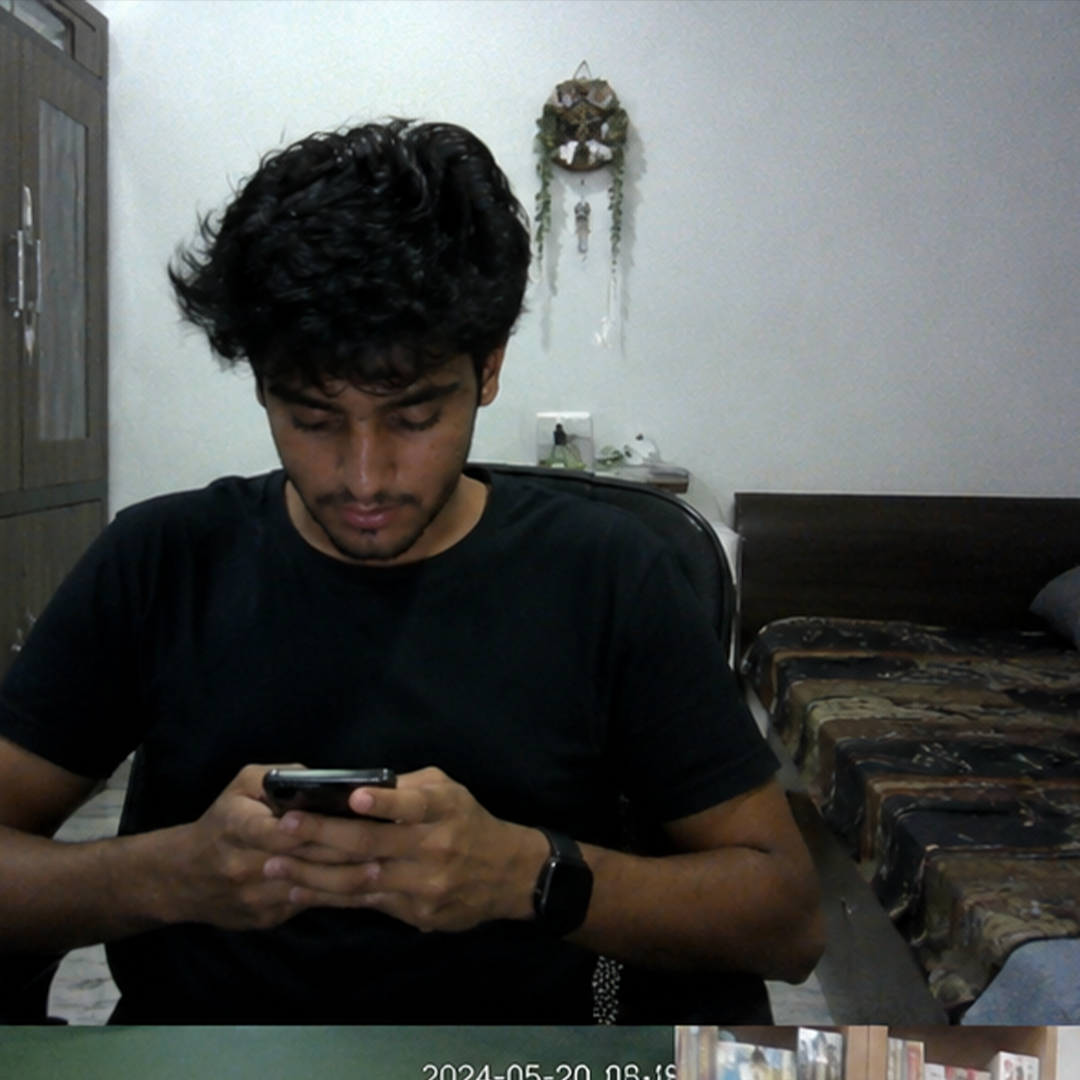distracted: (105, 73, 619, 678)
